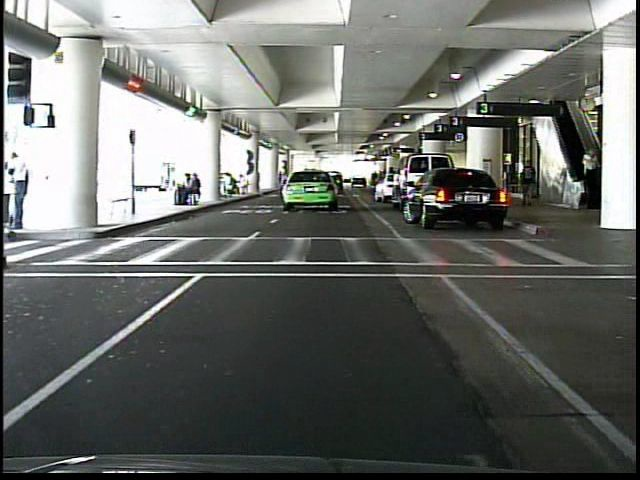person: (5, 151, 37, 232), (577, 144, 600, 206), (517, 155, 539, 214)
